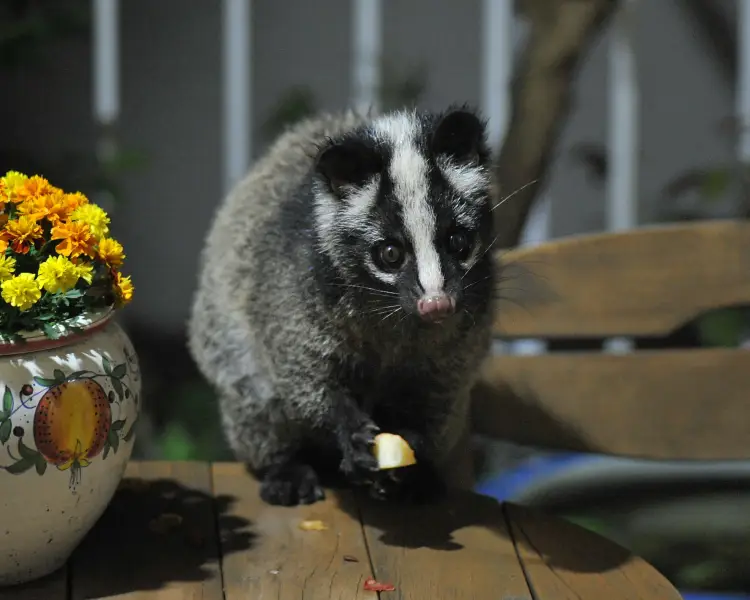Civet: (175, 79, 522, 519)
